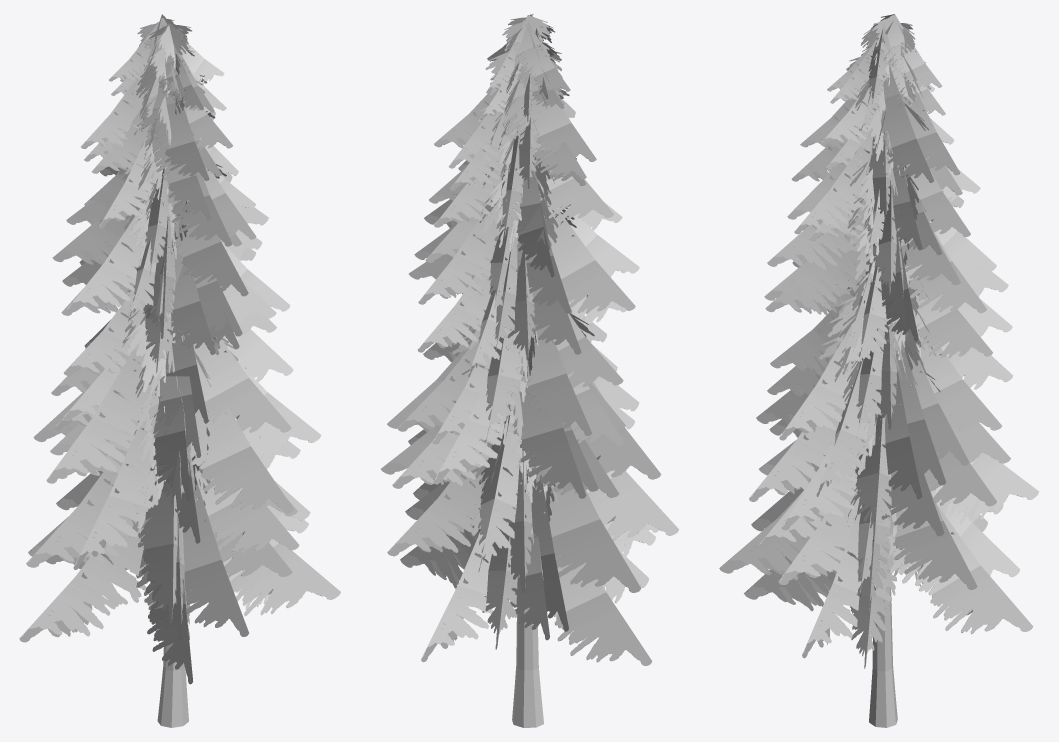
The model's file is PineTree1-LOD.fbx.
The picture shows the model from 3 angles, left to right: view 1: azimuth 30°, elevation 25°; view 2: azimuth 150°, elevation 25°; view 3: azimuth 270°, elevation 25°; orthographic projection.
Parts seen in each view (by area): view 1: branch_LOD0, tree_LOD0; view 2: branch_LOD0, tree_LOD0; view 3: branch_LOD0, tree_LOD0.
Boxes of the visible parts, left/top/right/bottom form: branch_LOD0: left=19, top=14, right=340, bottom=684; tree_LOD0: left=157, top=639, right=188, bottom=727; branch_LOD0: left=381, top=14, right=678, bottom=665; tree_LOD0: left=512, top=595, right=543, bottom=727; branch_LOD0: left=719, top=14, right=1038, bottom=668; tree_LOD0: left=869, top=568, right=897, bottom=727.
Size of what is drawn, in the model's own units: 266 by 631 by 269.
